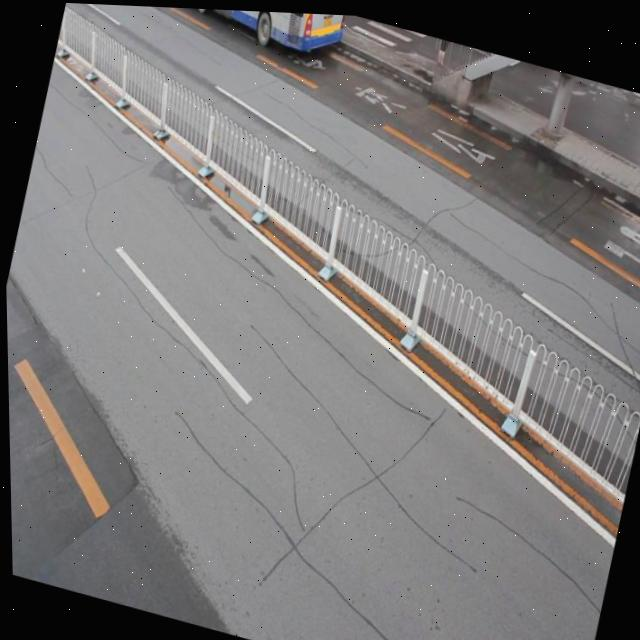van: (128, 4, 346, 67)
